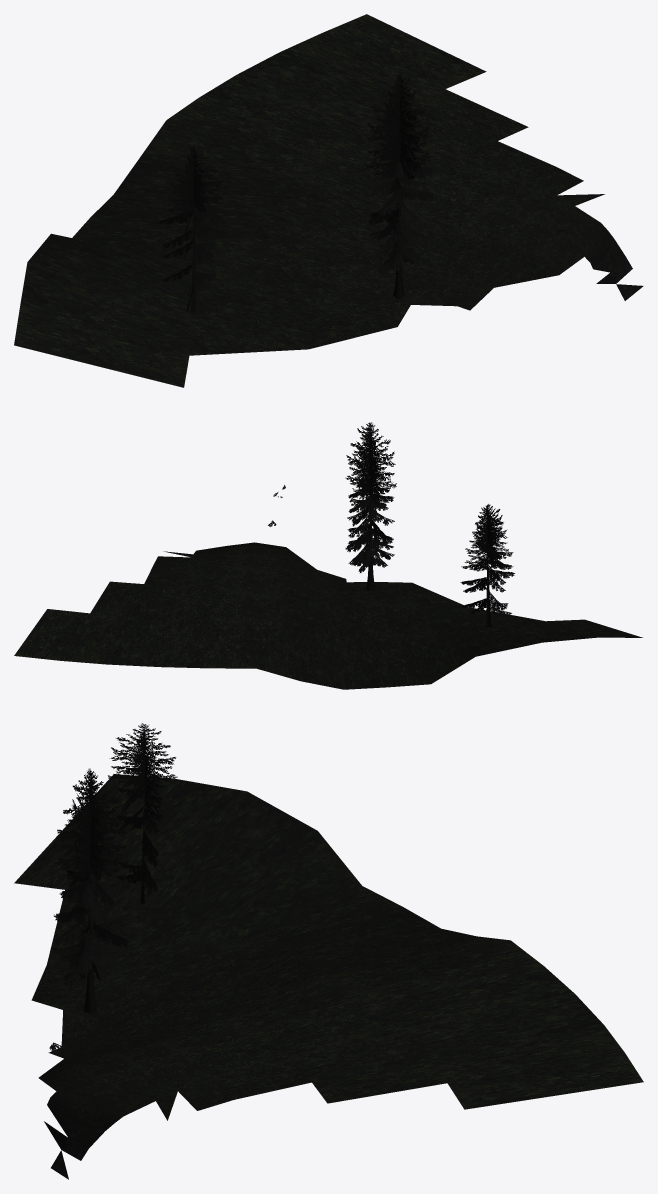
File: cell_-2_-17.gltf
The picture shows the model from 3 angles, top to bottom: view 1: azimuth 30°, elevation 25°; view 2: azimuth 150°, elevation 25°; view 3: azimuth 270°, elevation 25°; orthographic projection. The views are drawn at different scales.
Parts seen in each view (by area): view 1: cell_-2_-17; view 2: cell_-2_-17; view 3: cell_-2_-17.
Boxes of the visible parts, x1,y1,x2,y2 form: cell_-2_-17: (14,14,643,387); cell_-2_-17: (14,422,642,689); cell_-2_-17: (14,723,643,1179).
Size of the model in its own units: 232 by 93.16 by 183.
6 materials, 6 textured.
